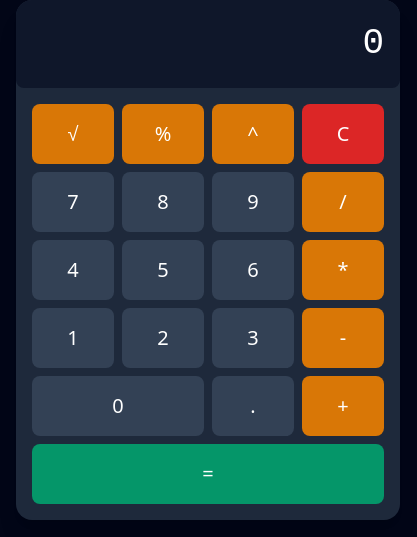
it: Calculator › computes 12 + 5 = 17 via the keypad, showing the live expression first
What coordinates should you click on to do the following:
click the button "1"
I would click on:
 (73, 338)
Its box is [32,308,114,368].
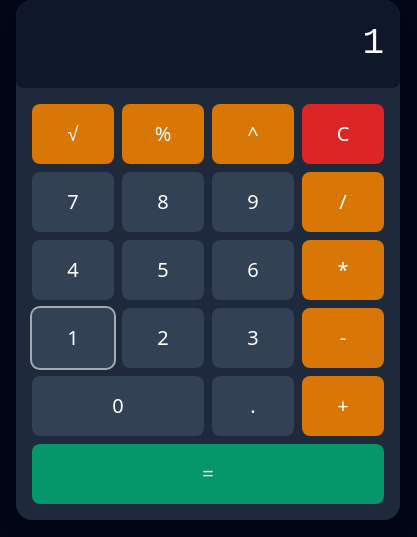
What coordinates should you click on to do the following:
click the button "2"
I would click on:
 (163, 338)
Its box is [122,308,204,368].
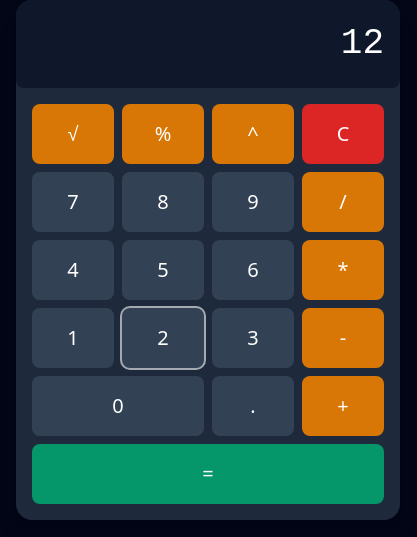
What coordinates should you click on to do the following:
click the button "+"
I would click on:
 (343, 406)
Its box is [302,376,384,436].
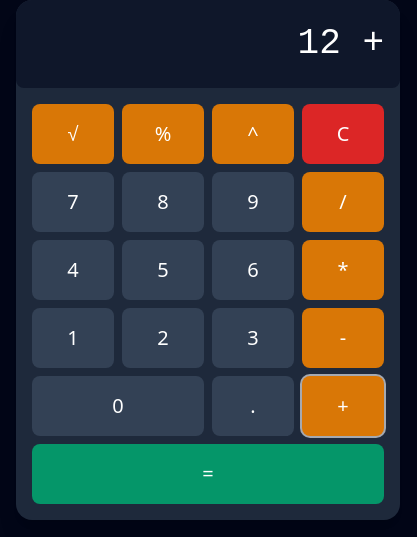
expect the text with test id "display" reads "12 +": met, box [298,23,384,64]
What coordinates should you click on to do the following:
click the button "5"
I would click on:
 (163, 270)
Its box is [122,240,204,300].
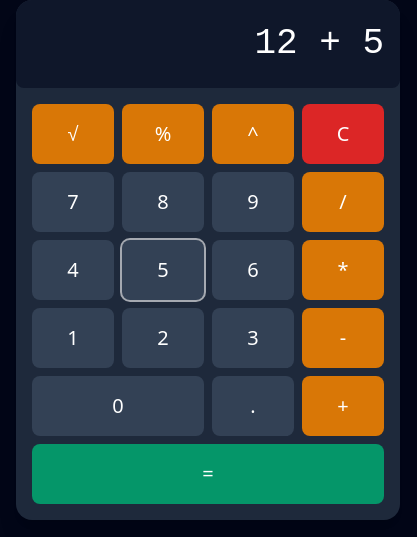
expect the text with test id "display" reads "12 + 5": met, box [254,23,384,64]
What coordinates should you click on to do the following:
click the button "="
I would click on:
 (208, 474)
Its box is [32,444,384,504].
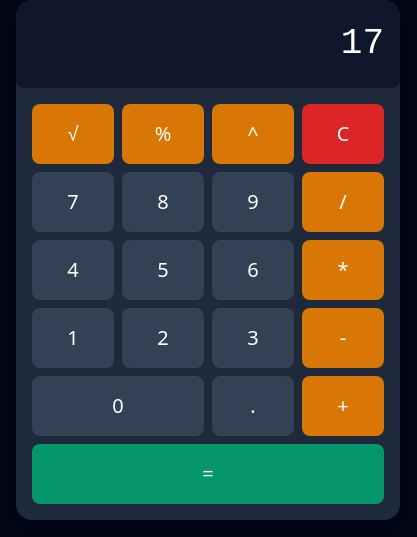
expect the text with test id "display" reads "17": met, box [341,23,384,64]
